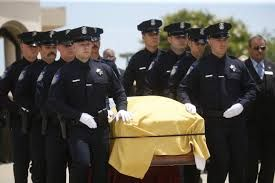uniform: (193, 57, 247, 170), (60, 61, 113, 171), (8, 59, 36, 170), (130, 45, 186, 97), (39, 63, 59, 178)
